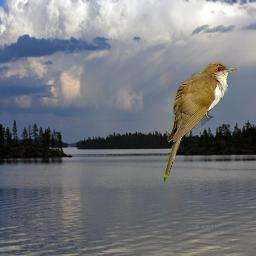Cuckoo: (163, 61, 237, 184)
